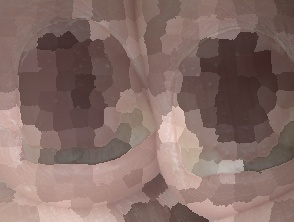Nail_psoriasis: (0, 0, 161, 186), (158, 6, 294, 204)
